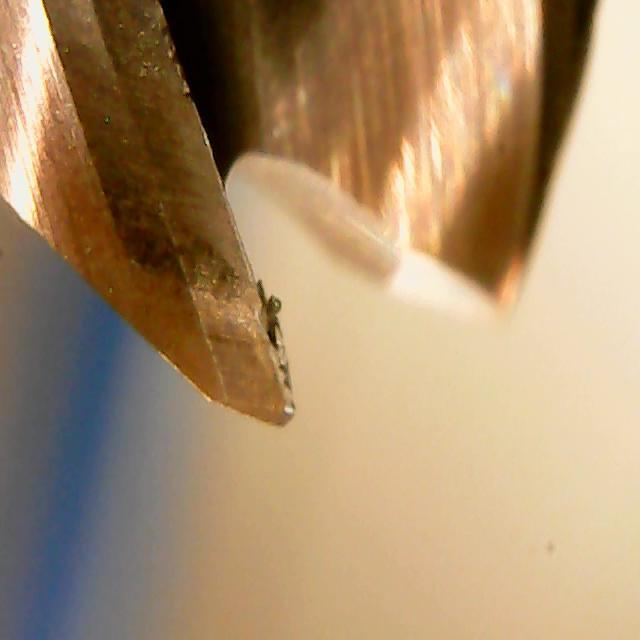Tool-wear-class-1: (129, 196, 342, 442)
